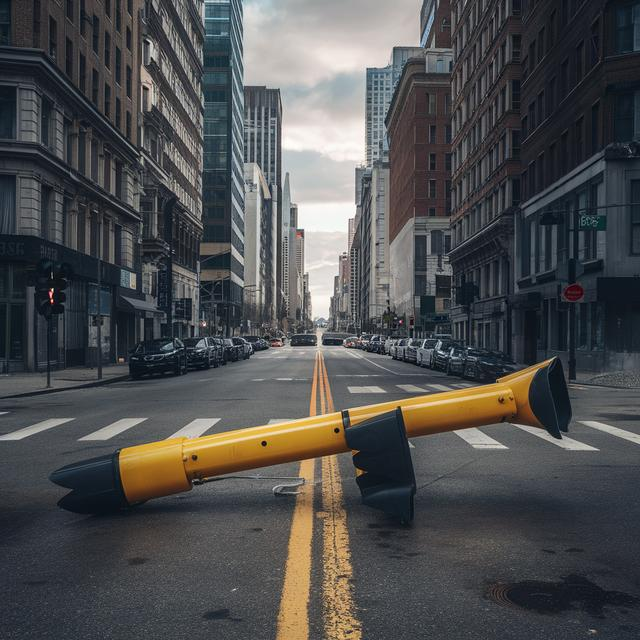Inclined Pole: (47, 348, 581, 532)
